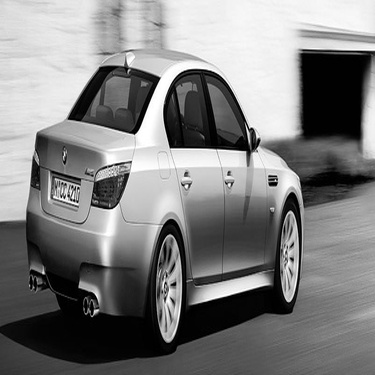car: (16, 34, 326, 319)
